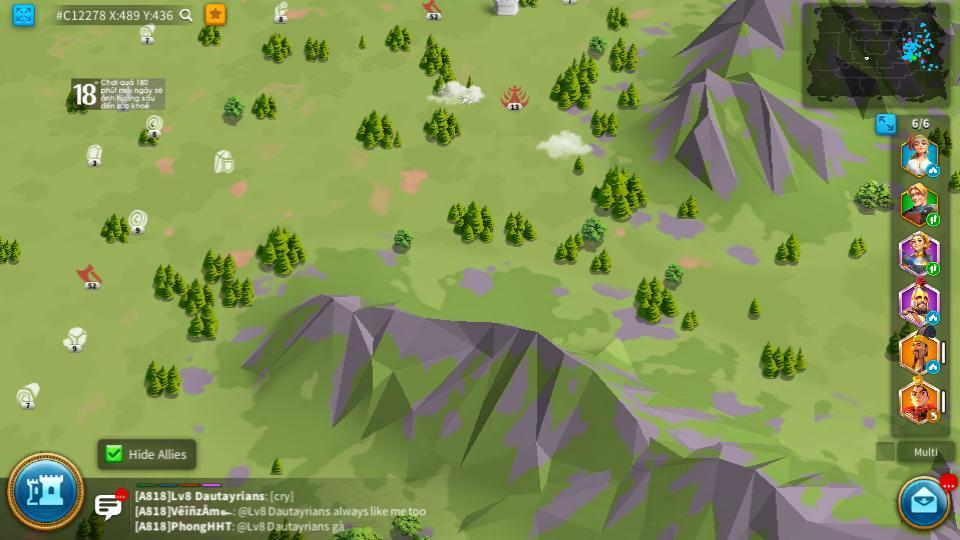gem-z-out: (83, 144, 105, 164)
march_idle: (927, 312, 940, 324), (927, 362, 940, 373), (928, 166, 939, 176)
march_marching: (925, 263, 938, 274), (927, 216, 940, 227)
march_returning: (926, 411, 940, 422)
